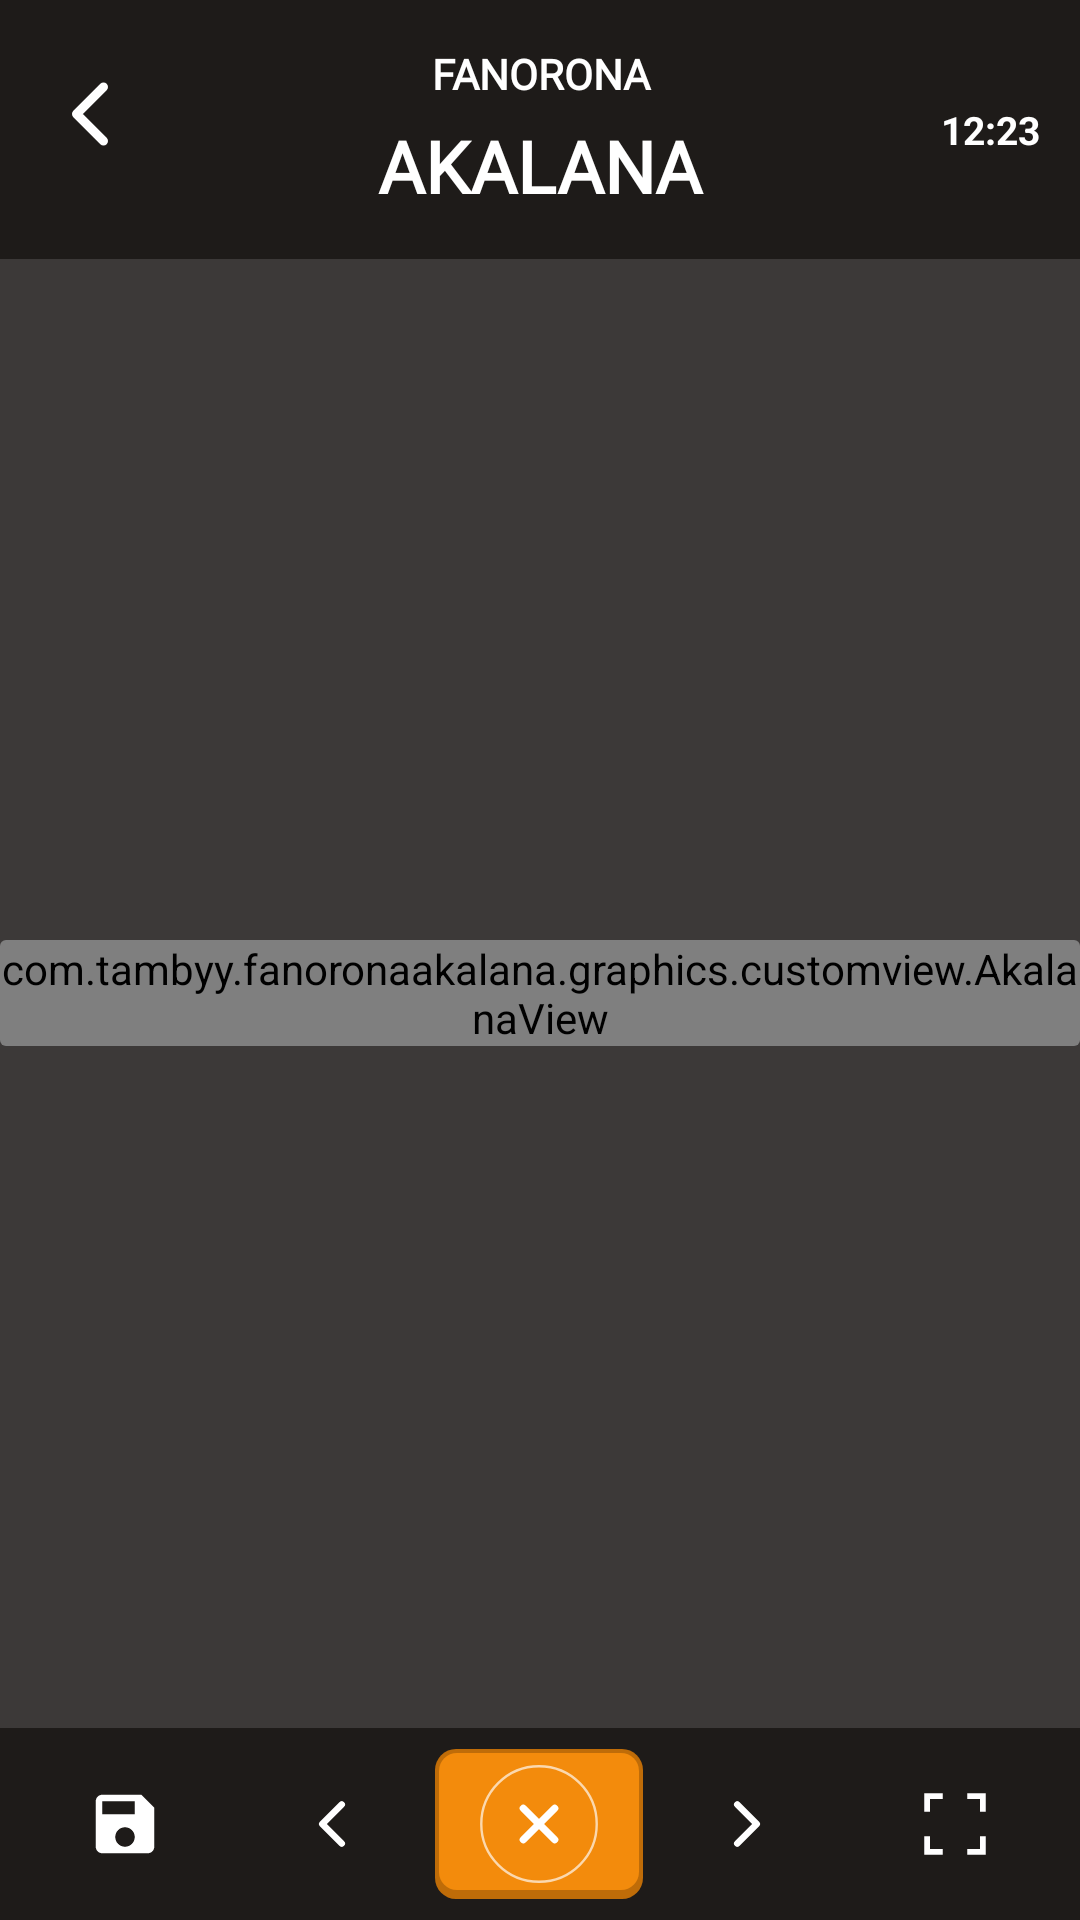

Screen size 1080 × 1920. Icon name, then its center in pixels as point (x, y):
game fullscreen: point (955, 1824)
game history next: point (746, 1824)
game history prev: point (90, 114), point (332, 1824)
game save: point (125, 1824)
game stop moves sequence: point (539, 1824)
